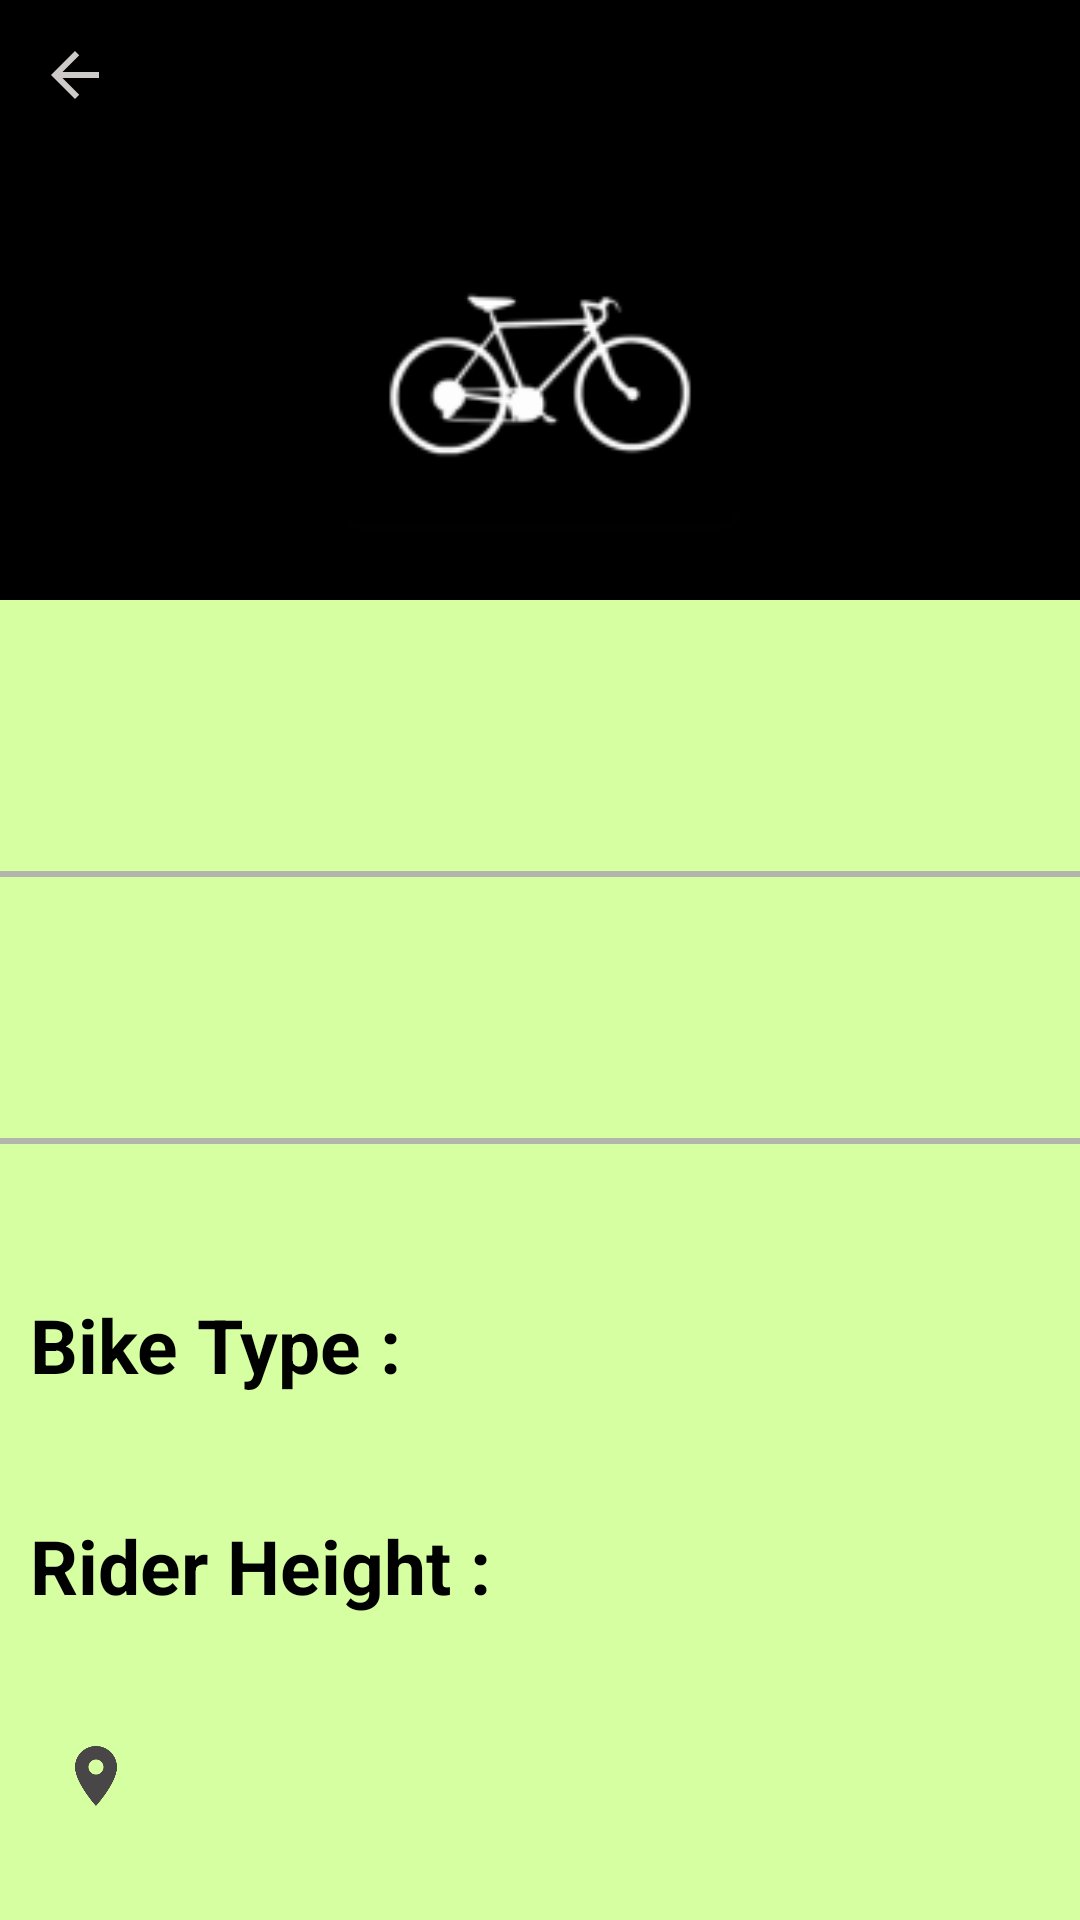

Where icons sit on this 1080×1920 app screen, as region(x1, y1, x2, y2):
arrow back: region(51, 51, 99, 99)
bike: region(389, 294, 691, 456)
